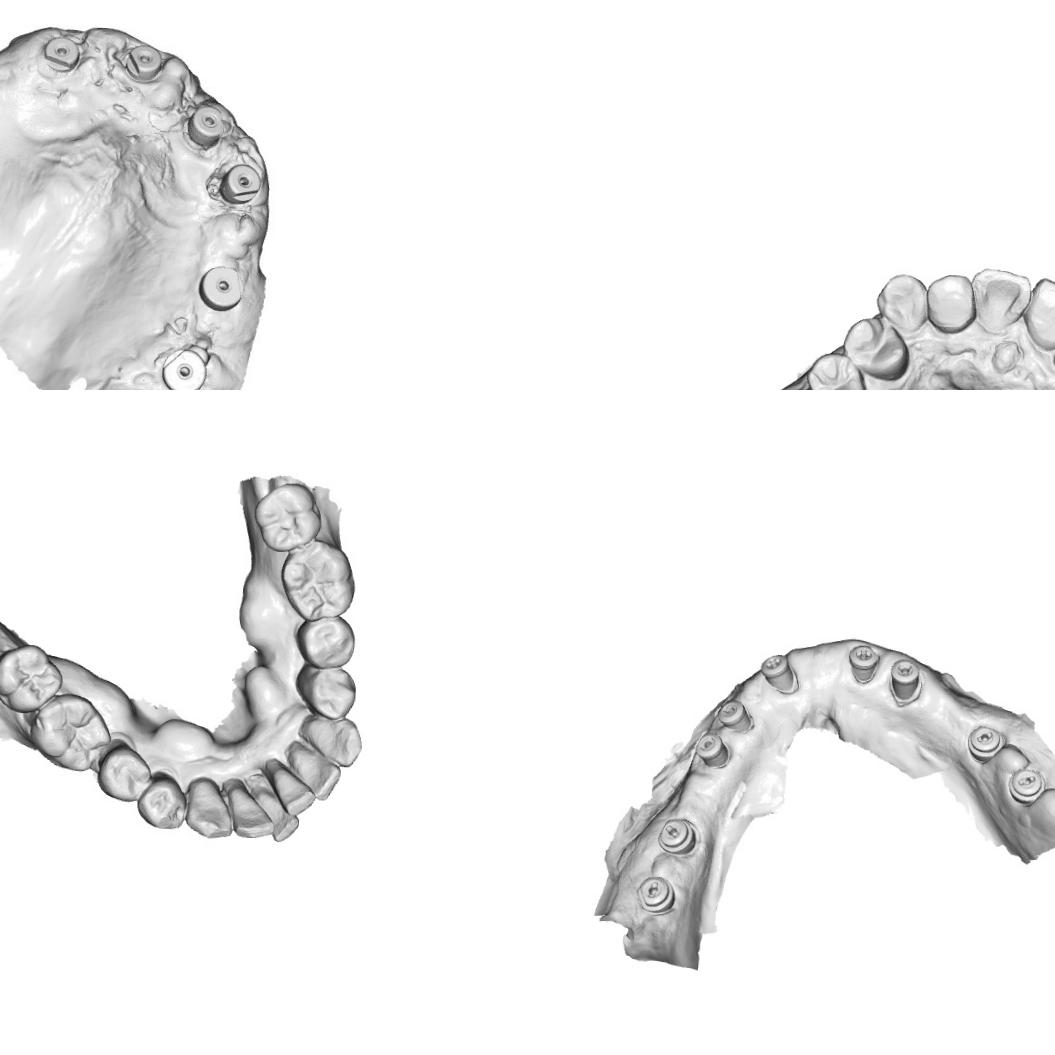canine: (300, 712, 364, 770), (874, 272, 930, 335), (182, 778, 237, 840)
implant: (197, 264, 247, 312), (182, 102, 229, 150), (216, 161, 262, 208), (160, 346, 207, 390), (40, 32, 82, 74), (122, 42, 164, 84)
implant_minus: (964, 724, 1008, 766), (656, 816, 698, 858), (634, 875, 676, 916), (1006, 766, 1047, 805), (693, 731, 731, 768), (716, 698, 756, 733)
implant_plus: (887, 655, 924, 708), (758, 652, 802, 696), (846, 643, 882, 686)
incisor: (968, 266, 1032, 332), (287, 744, 343, 804), (925, 272, 978, 334), (226, 782, 278, 842), (267, 765, 318, 819), (1021, 275, 1055, 353), (253, 788, 300, 844)
molar: (27, 690, 114, 774), (278, 538, 356, 626), (252, 478, 324, 554), (0, 640, 65, 715)
premolar: (841, 314, 911, 383), (291, 658, 362, 722), (291, 611, 360, 672), (94, 743, 153, 806), (135, 774, 189, 834), (803, 349, 868, 390)
